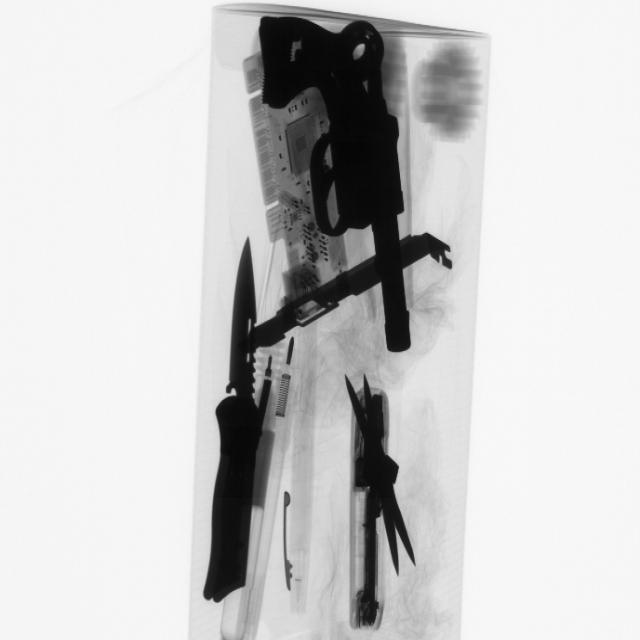GUN: (277, 10, 418, 358)
KNIFE: (196, 249, 280, 611)
SHURIKEN: (340, 364, 420, 583)
